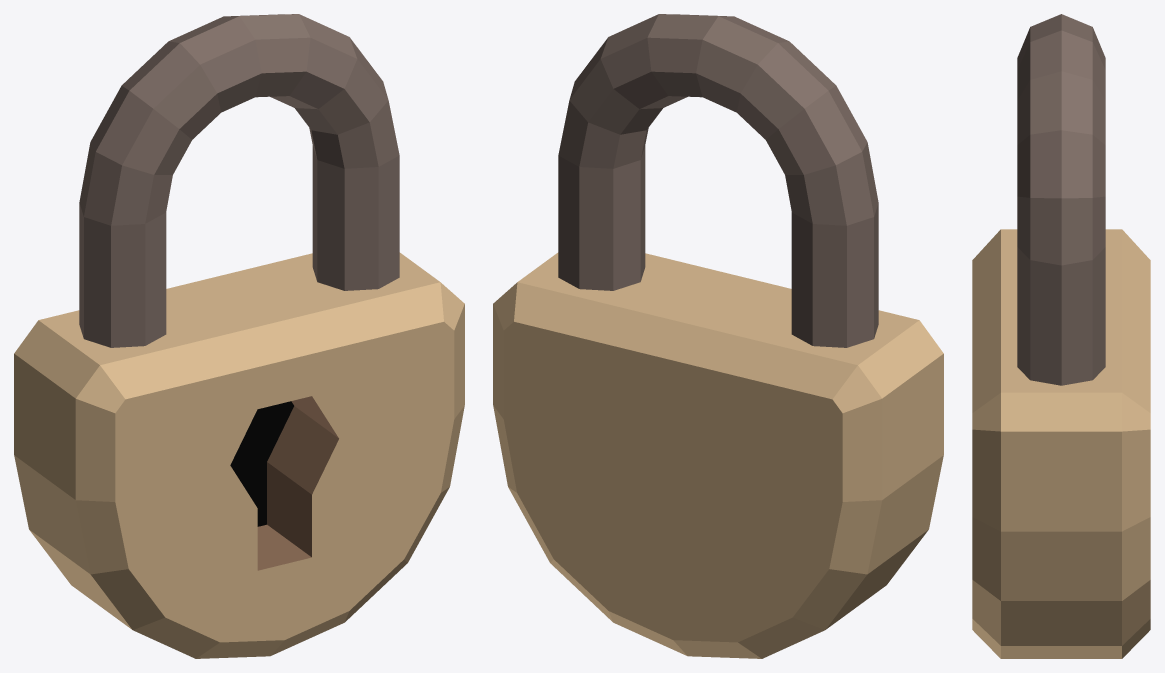
Rendered from Lock.fbx.
The picture shows the model from 3 angles, left to right: view 1: azimuth 30°, elevation 25°; view 2: azimuth 150°, elevation 25°; view 3: azimuth 270°, elevation 25°; orthographic projection.
Visible parts, largest first — view 1: Lock, Lock.Loop; view 2: Lock, Lock.Loop; view 3: Lock, Lock.Loop.
Part boxes in pixels (x1,y1,x2,y2): Lock: (14,252,464,658); Lock.Loop: (79,14,399,347); Lock: (493,252,943,658); Lock.Loop: (558,14,878,347); Lock: (972,229,1150,658); Lock.Loop: (1017,14,1105,385).
Size of the model in its own units: 0.5 by 0.7584 by 0.2016.
